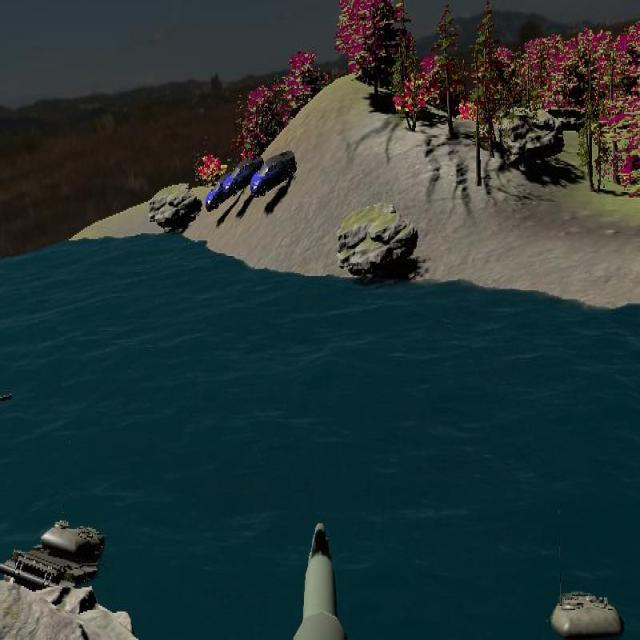car: (250, 151, 297, 199), (228, 157, 265, 194), (206, 176, 239, 213)
